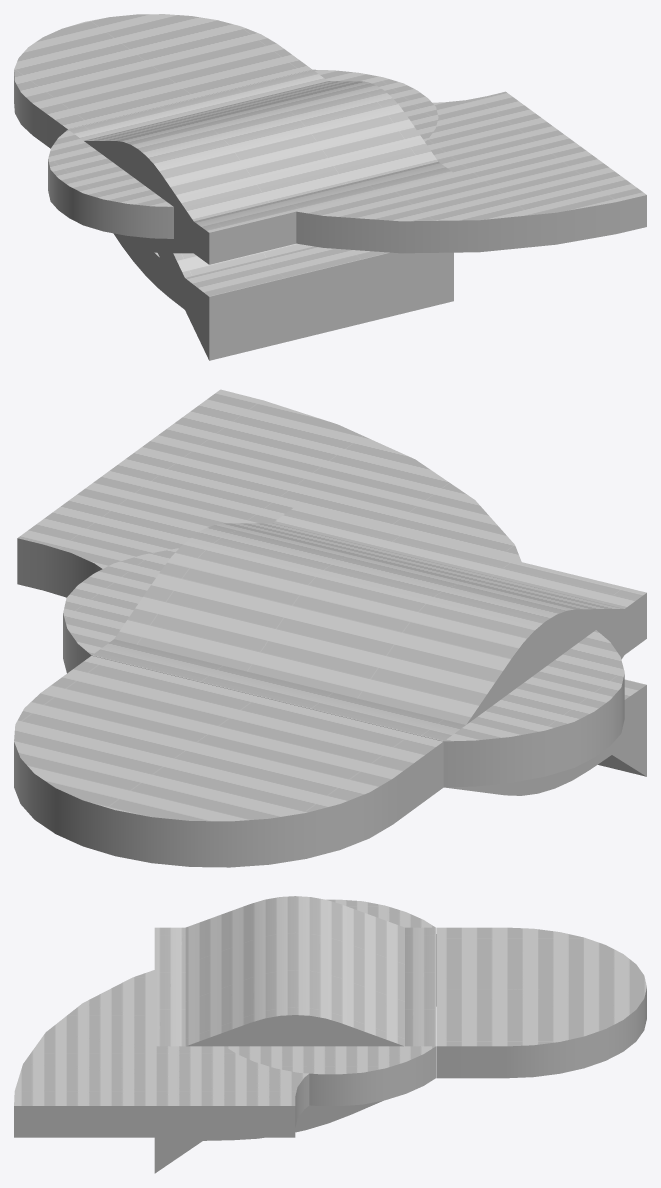
The model's file is Floor_2x4_HardEdge_thin.fbx.
3 renders of one model, top to bottom at view 1: azimuth 30°, elevation 25°; view 2: azimuth 150°, elevation 25°; view 3: azimuth 270°, elevation 25°, orthographic. The views are drawn at different scales.
Visible parts, largest first — view 1: Floor_2x4_HE_Tn_rotate1, Floor_2x4_HE_Tn_hill, Floor_2x4_HE_Tn_cap, Floor_2x4_HE_Tn_ramp1, Floor_2x4_HE_Tn_deep1, Floor_2x4_HE_Tn_circle, Floor_2x4_HE_Tn_ramp2; view 2: Floor_2x4_HE_Tn_cap, Floor_2x4_HE_Tn_hill, Floor_2x4_HE_Tn_rotate1, Floor_2x4_HE_Tn_circle, Floor_2x4_HE_Tn_deep1, Floor_2x4_HE_Tn_ramp1, Floor_2x4_HE_Tn_ramp2; view 3: Floor_2x4_HE_Tn_rotate1, Floor_2x4_HE_Tn_hill, Floor_2x4_HE_Tn_cap, Floor_2x4_HE_Tn_circle, Floor_2x4_HE_Tn_deep1, Floor_2x4_HE_Tn_ramp1, Floor_2x4_HE_Tn_ramp2.
Part boxes in pixels (x1,y1,x2,y2): Floor_2x4_HE_Tn_rotate1: (296, 91, 646, 253); Floor_2x4_HE_Tn_hill: (84, 81, 437, 262); Floor_2x4_HE_Tn_cap: (14, 14, 312, 148); Floor_2x4_HE_Tn_ramp1: (113, 233, 453, 328); Floor_2x4_HE_Tn_deep1: (68, 69, 453, 264); Floor_2x4_HE_Tn_circle: (48, 69, 438, 238); Floor_2x4_HE_Tn_ramp2: (151, 238, 453, 360); Floor_2x4_HE_Tn_cap: (14, 656, 443, 867); Floor_2x4_HE_Tn_hill: (114, 523, 646, 724); Floor_2x4_HE_Tn_rotate1: (17, 389, 521, 597); Floor_2x4_HE_Tn_circle: (63, 548, 624, 787); Floor_2x4_HE_Tn_deep1: (92, 507, 646, 741); Floor_2x4_HE_Tn_ramp1: (425, 679, 646, 795); Floor_2x4_HE_Tn_ramp2: (598, 718, 646, 776); Floor_2x4_HE_Tn_rotate1: (14, 970, 309, 1137); Floor_2x4_HE_Tn_hill: (185, 896, 404, 1046); Floor_2x4_HE_Tn_cap: (436, 927, 646, 1078); Floor_2x4_HE_Tn_circle: (225, 899, 435, 1105); Floor_2x4_HE_Tn_deep1: (154, 927, 435, 1108); Floor_2x4_HE_Tn_ramp1: (154, 1100, 383, 1141); Floor_2x4_HE_Tn_ramp2: (154, 1137, 206, 1173).
Bounding box in the file's own units: 694 × 249 × 900.
